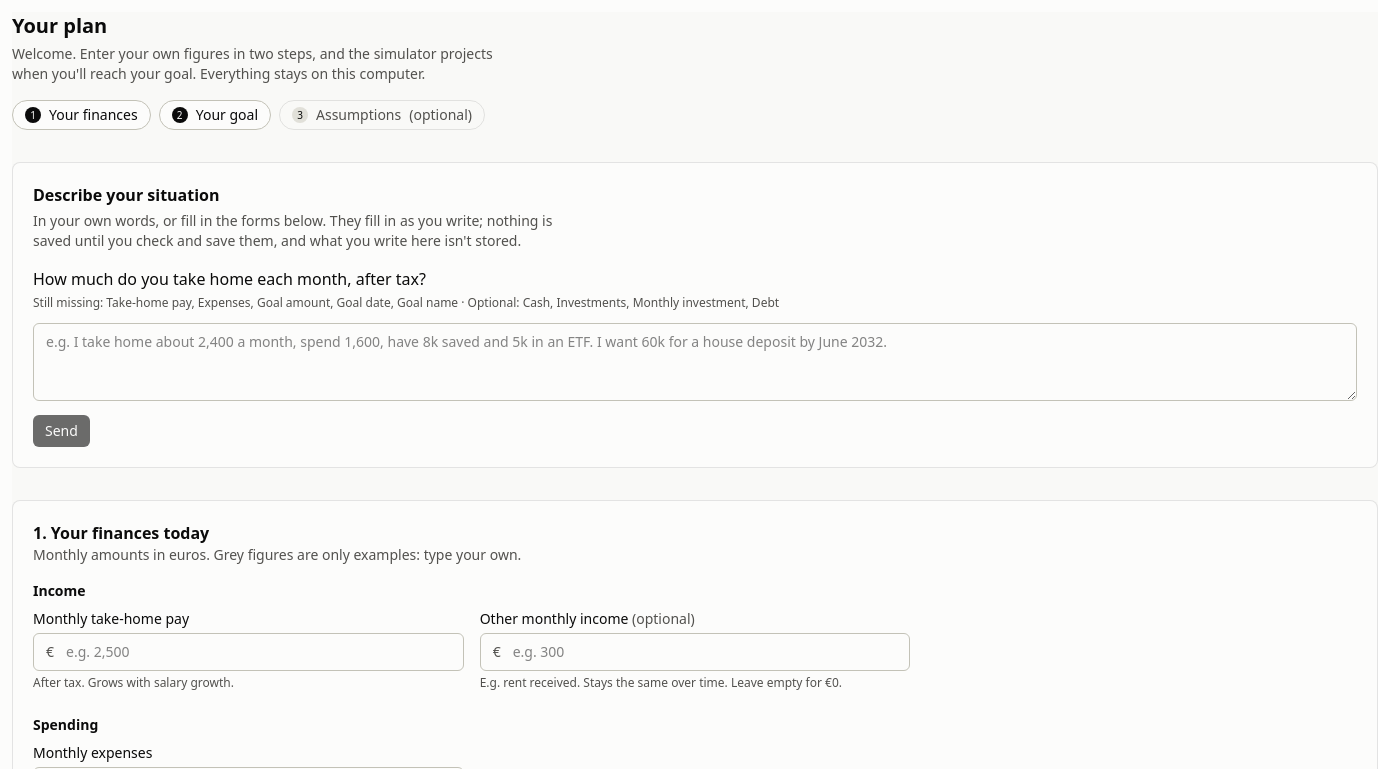
Scenario: describe your situation › fills the forms from a description, labels them, and saves nothing by itself
Replace the text in the text box with id "describe-input" with "I take home 2,400, rent 900 and 700 for the rest…" at {"x": 695, "y": 362}, box [33,323,1357,401]
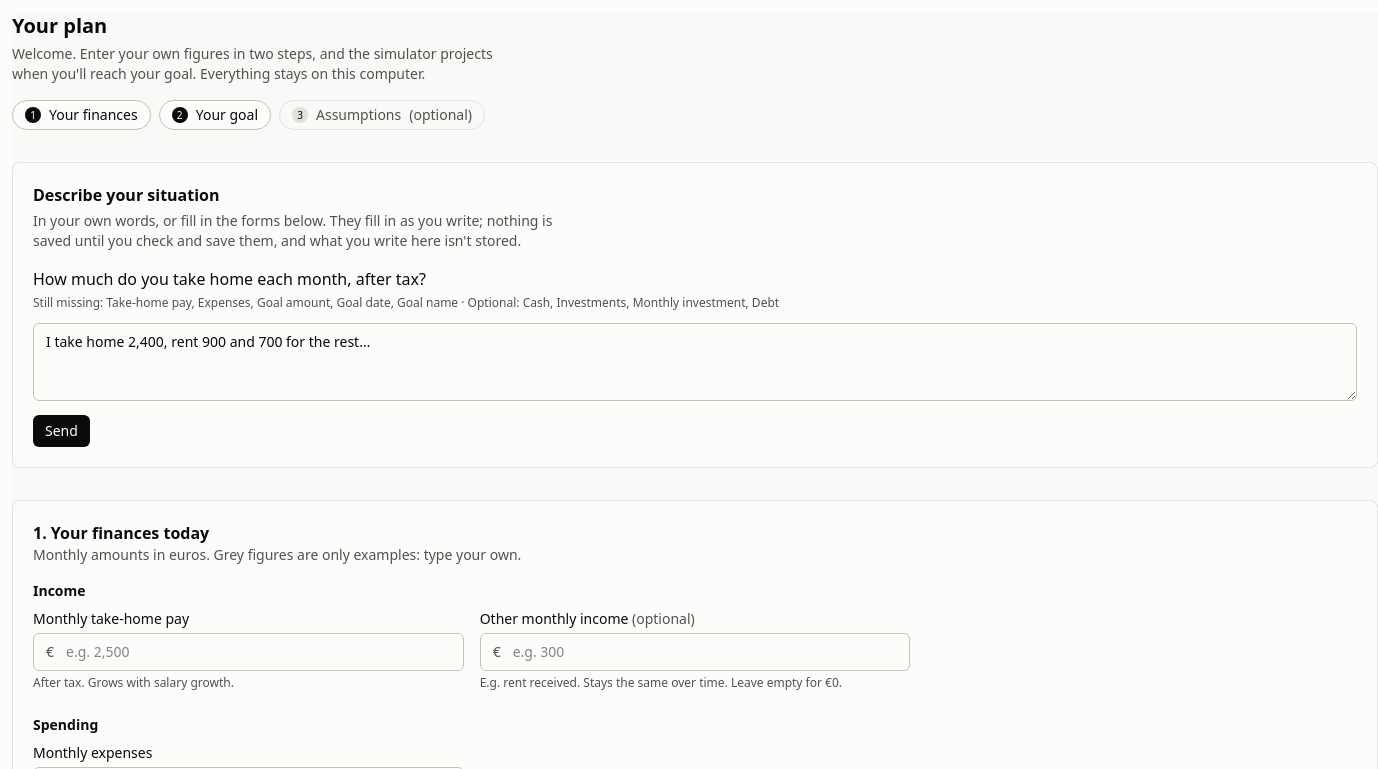
Submit the form with id "describe-input", box [33,323,1357,447]
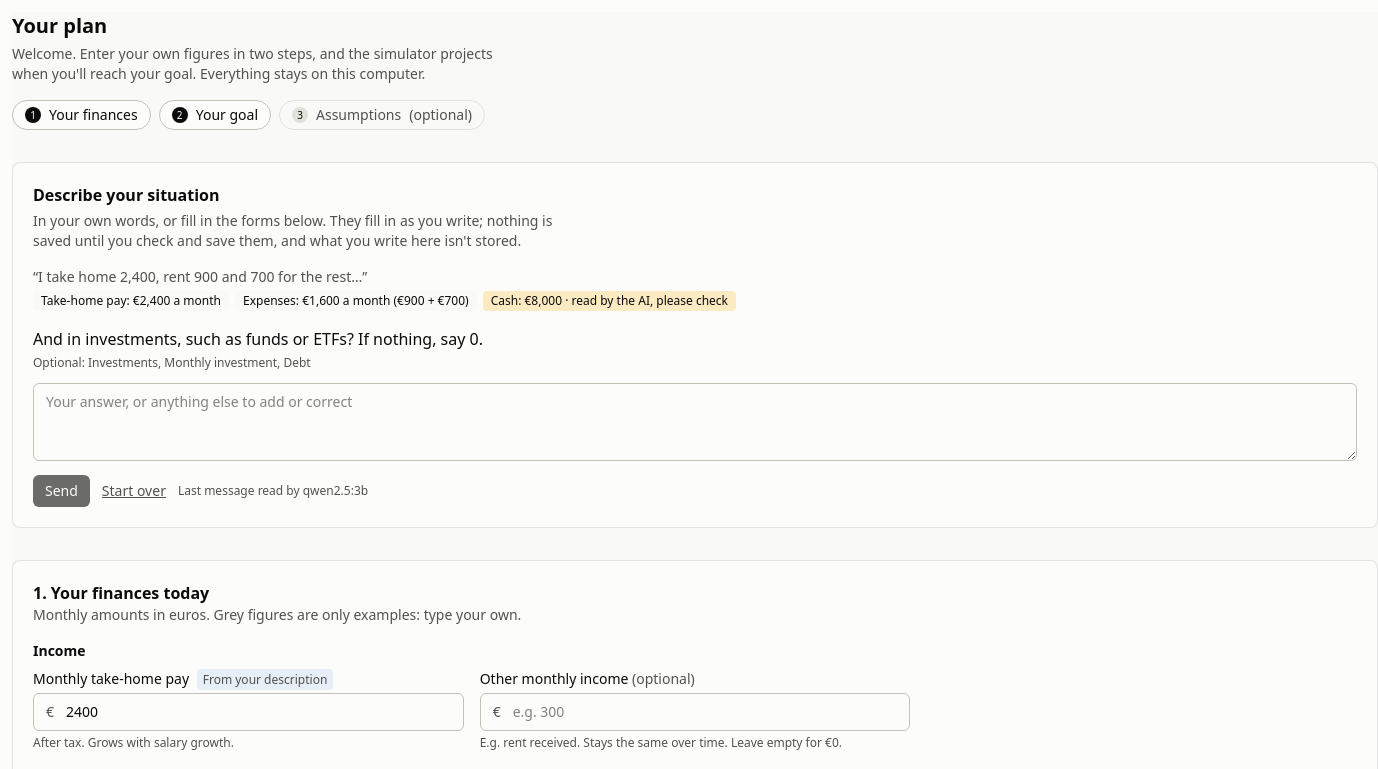
Result: the element that starts with "Describe your situation" shows "Expenses: €1,600 a month (€900 + €700)" at [243,292,469,309]
Result: the element that starts with "Describe your situation" shows "And in investments, such as funds or ETFs?" at [33,328,483,350]
Result: the element that starts with "Describe your situation" shows "Optional: Investments, Monthly investment, Debt" at [33,354,311,371]
